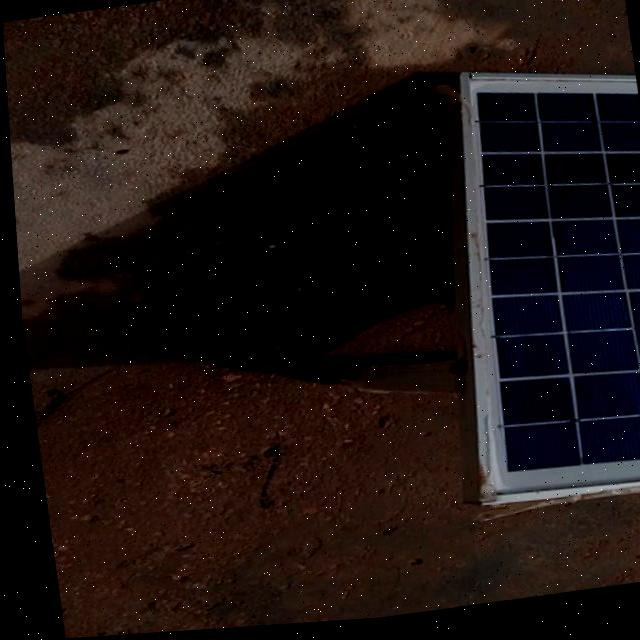Normal Solar Panel: (425, 58, 640, 511)
